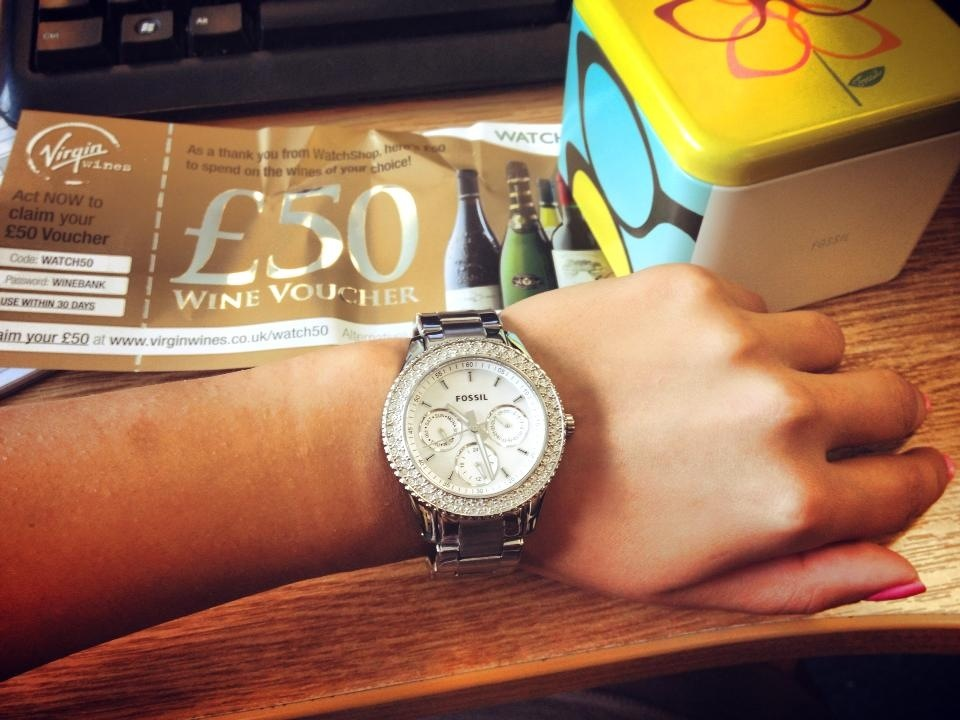clock: (381, 336, 567, 520)
